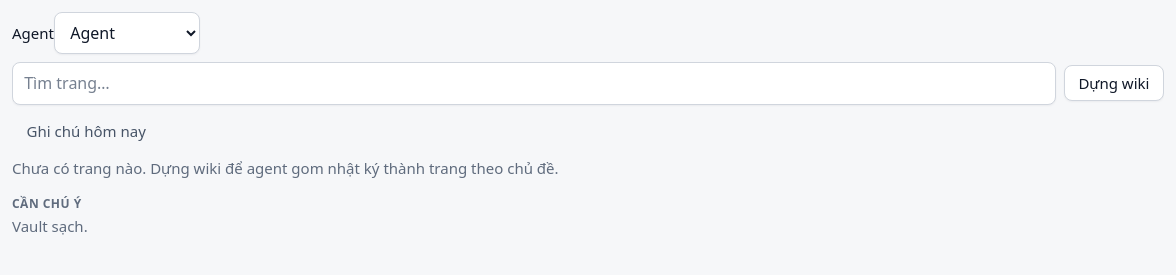
Scenario: WikiSection › explains a refused compile as the agent being busy, not as a failure
Expected: the text "Chưa có trang nào. Dựng wiki để agent gom nhật ký thành trang theo chủ đề." is shown, [12, 158, 559, 178]
Click the button "Dựng wiki": [1114, 83] box [1064, 65, 1164, 101]
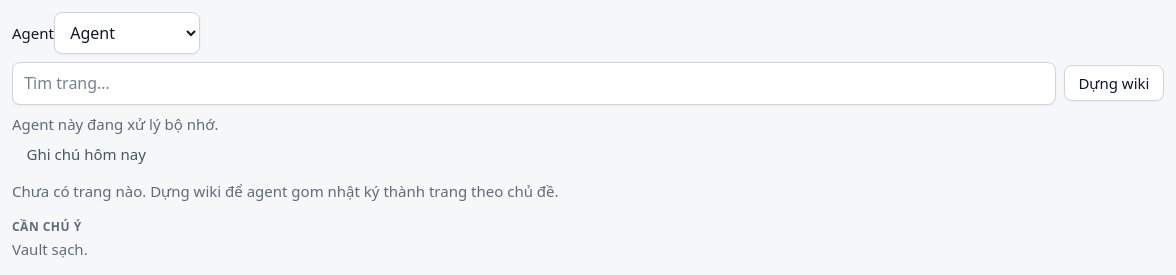
Expected: the text "Agent này đang xử lý bộ nhớ." is shown, [12, 114, 218, 134]
